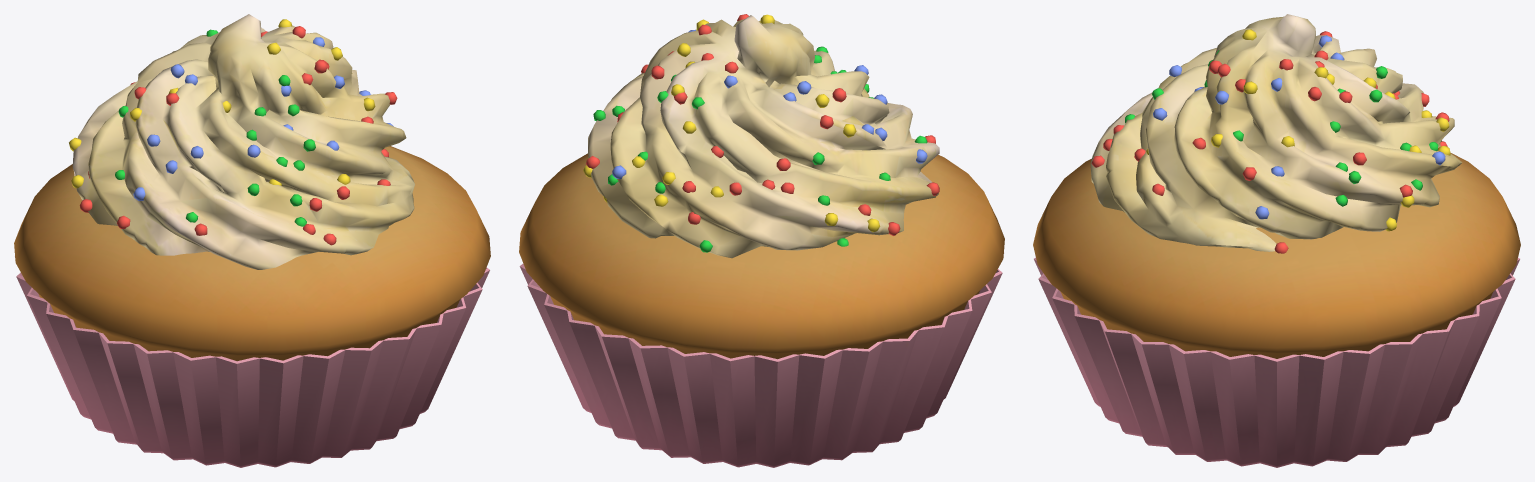
Rendered from cupcake.glb.
The picture shows the model from 3 angles, left to right: view 1: azimuth 30°, elevation 25°; view 2: azimuth 150°, elevation 25°; view 3: azimuth 270°, elevation 25°; orthographic projection. The views are drawn at different scales.
Visible parts, largest first — view 1: Cupcake_1; view 2: Cupcake_1; view 3: Cupcake_1.
Part boxes in pixels (x1=…): Cupcake_1: x1=14, y1=14, x2=490, y2=467; Cupcake_1: x1=519, y1=14, x2=1004, y2=467; Cupcake_1: x1=1033, y1=14, x2=1520, y2=467.
Bounding box in the file's own units: 0.0785 × 0.0674 × 0.0785.
1 material, 1 textured.
